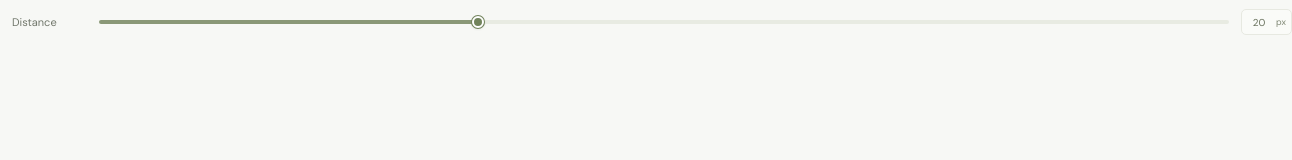
it: RangeControl › rounds fractional entries to the configured step
Replace the text in the number field with "12.26": (1259, 22) [1242, 10, 1276, 34]
Then press Enter
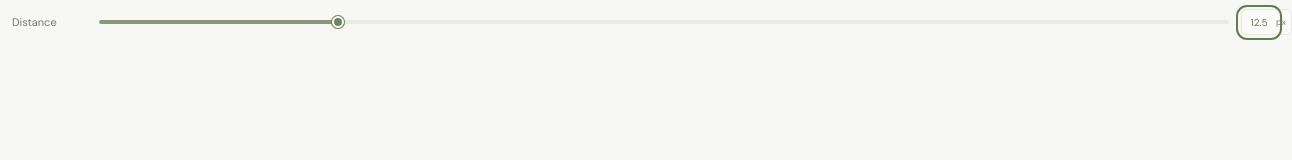
Now the number field holds "12.5", box [1242, 10, 1276, 34]
